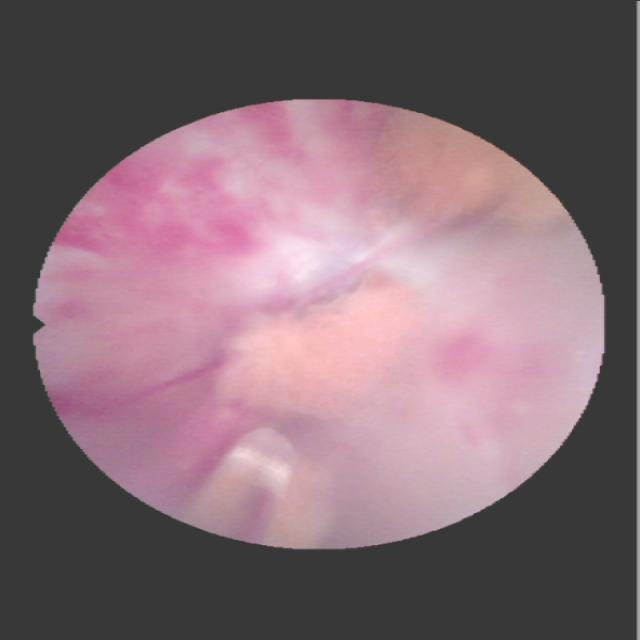stone: (227, 284, 427, 419), (382, 117, 560, 230)
